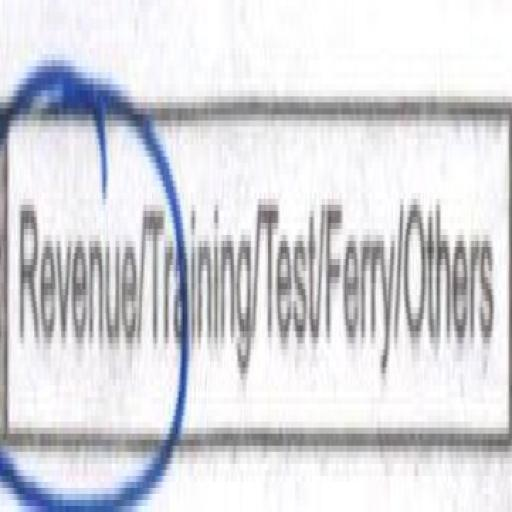check: (0, 33, 145, 512)
